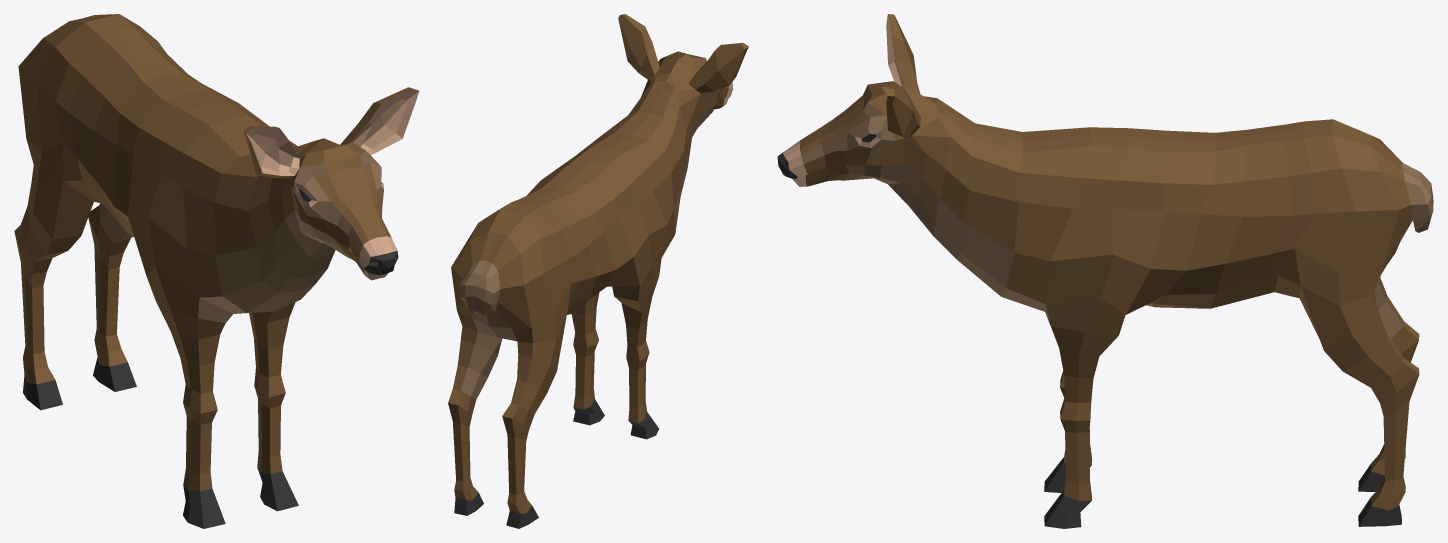
File: Doe.fbx
The picture shows the model from 3 angles, left to right: view 1: azimuth 30°, elevation 25°; view 2: azimuth 150°, elevation 25°; view 3: azimuth 270°, elevation 25°; orthographic projection. The views are drawn at different scales.
Parts seen in each view (by area): view 1: Doe; view 2: Doe; view 3: Doe.
Boxes of the visible parts, x1=… form: Doe: x1=14, y1=14, x2=419, y2=528; Doe: x1=448, y1=14, x2=748, y2=528; Doe: x1=777, y1=14, x2=1433, y2=528.
Bounding box in the file's own units: 42.09 × 108 × 142.
